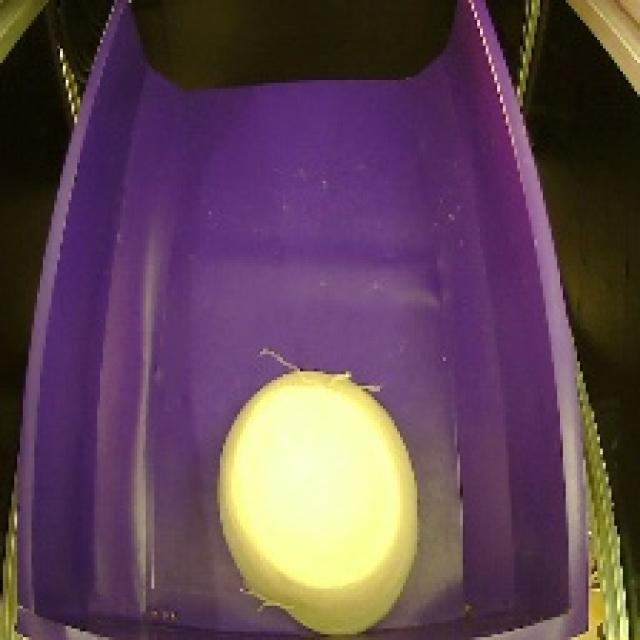white_radish: (207, 347, 437, 640)
